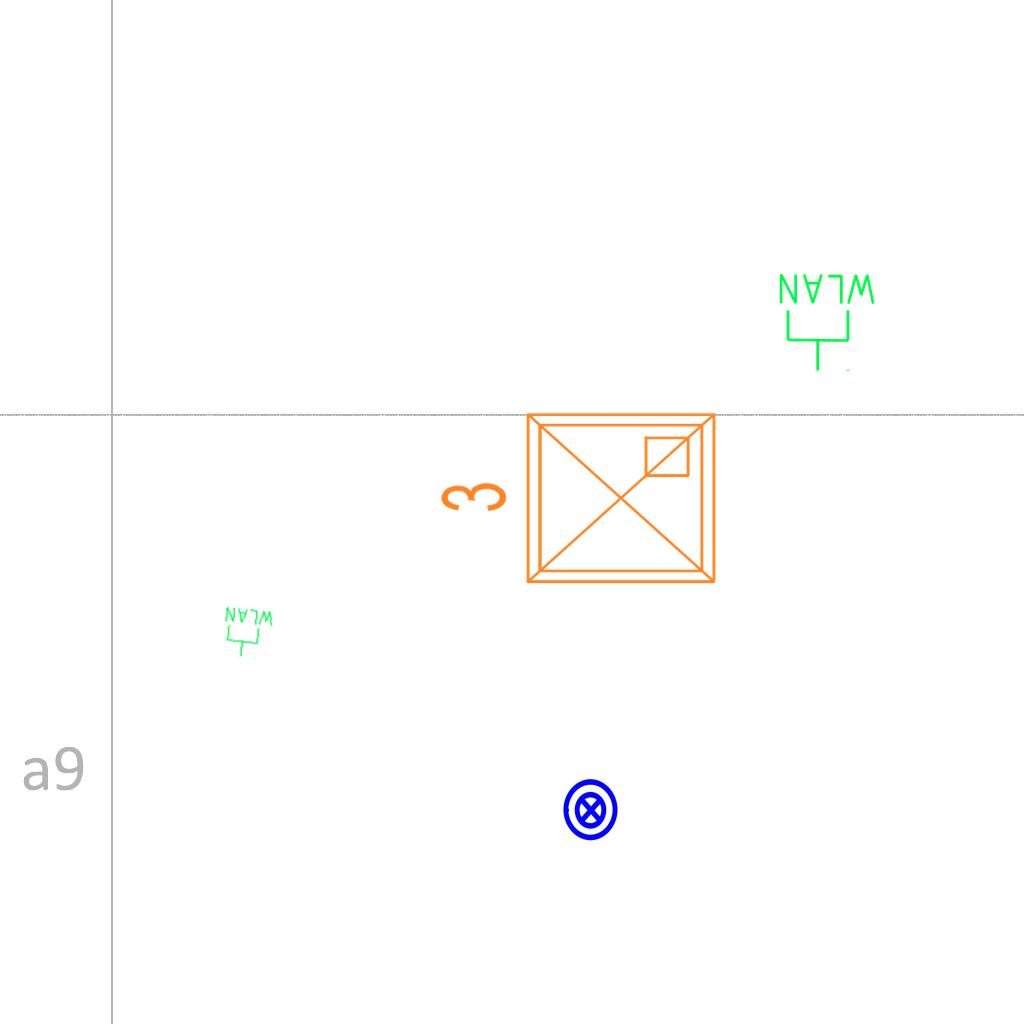Einbaudownlights_LED_Konferenzraeume: (430, 398, 730, 606)
Taster_beleuchtet: (558, 777, 624, 843)
WLAN: (775, 270, 880, 374), (219, 604, 277, 662)
